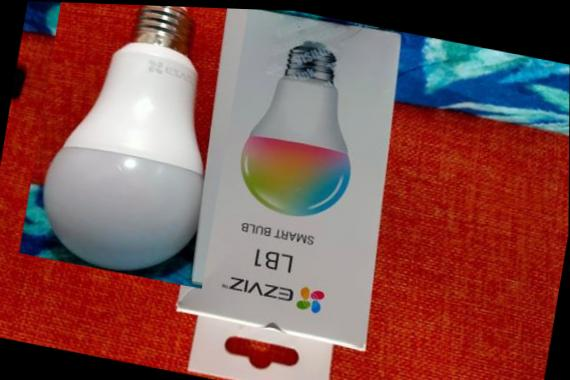Bulb: (18, 1, 248, 287)
